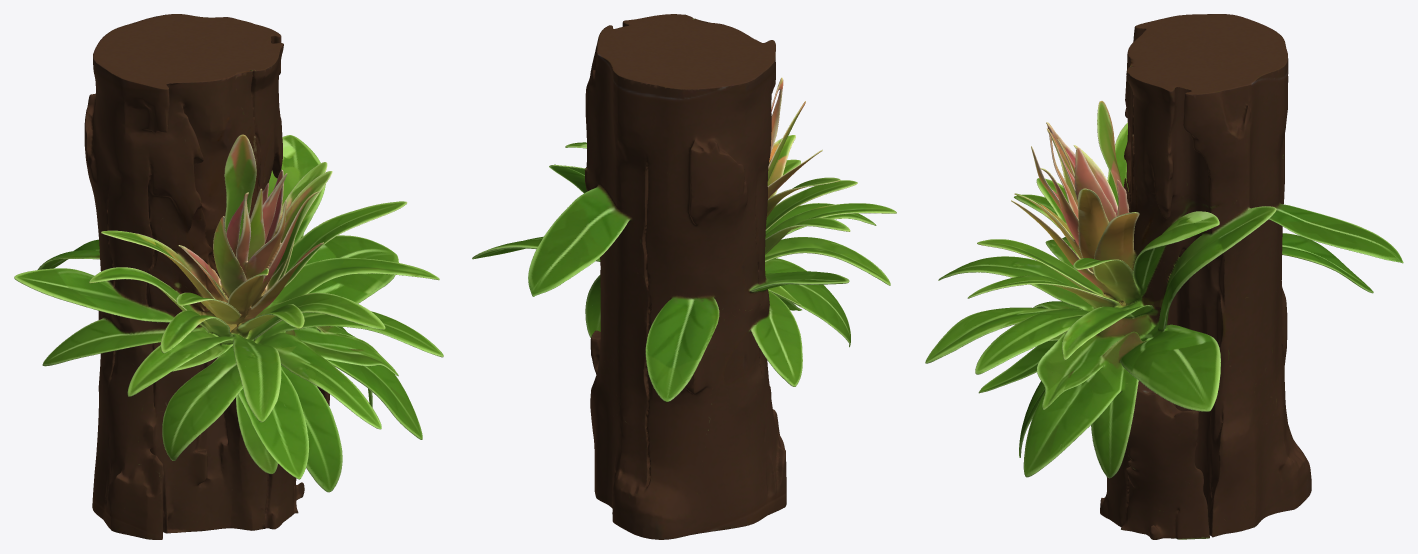
File: altitude_bromeilia.glb
3 views of the same model, side by side, from view 1: azimuth 30°, elevation 25°; view 2: azimuth 150°, elevation 25°; view 3: azimuth 270°, elevation 25° (orthographic).
Bounding box in the file's own units: 1.69 × 1.9 × 1.85.
1 material, 1 textured.
